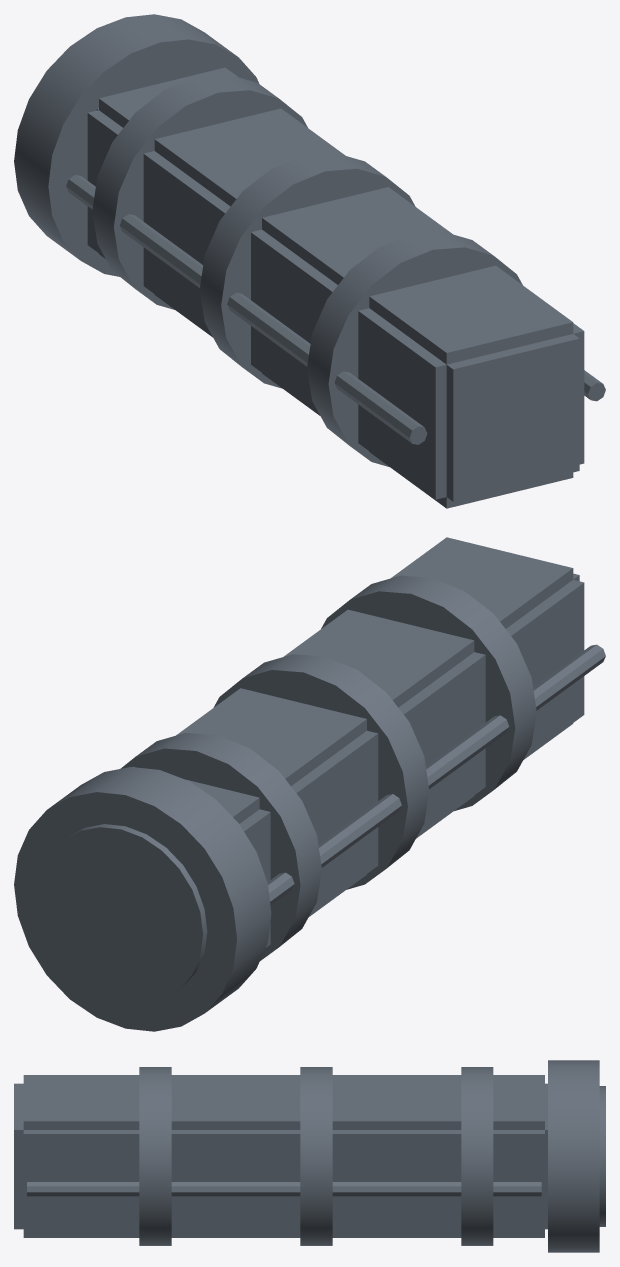
The model's file is heavy_laser_lens.glb.
The picture shows the model from 3 angles, top to bottom: view 1: azimuth 30°, elevation 25°; view 2: azimuth 150°, elevation 25°; view 3: azimuth 270°, elevation 25°; orthographic projection. The views are drawn at different scales.
Parts seen in each view (by area): view 1: heavy_laser_lens; view 2: heavy_laser_lens; view 3: heavy_laser_lens.
Part boxes in pixels (x1,y1,x2,y2): heavy_laser_lens: (14,14,605,508); heavy_laser_lens: (14,537,605,1031); heavy_laser_lens: (14,1060,605,1252).
Size of the model in its own units: 0.3 by 0.3 by 0.92.
